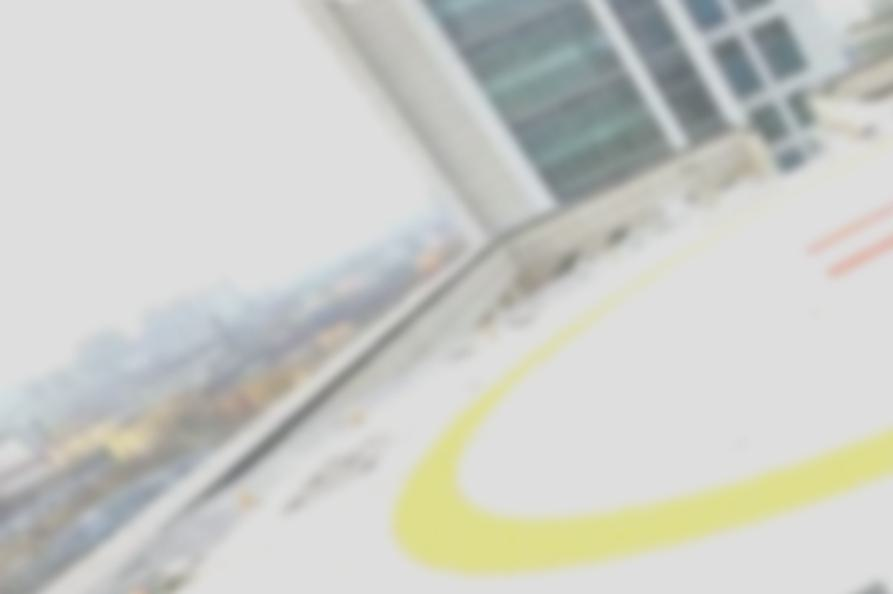Apron: (380, 133, 893, 574)
